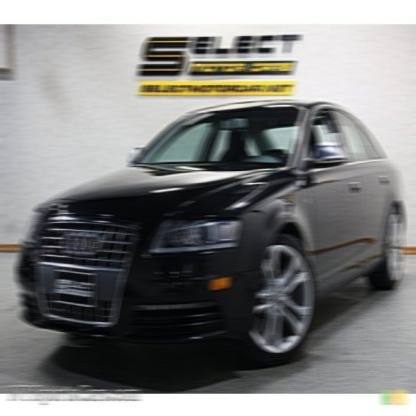Vehicle: (14, 100, 405, 367)
